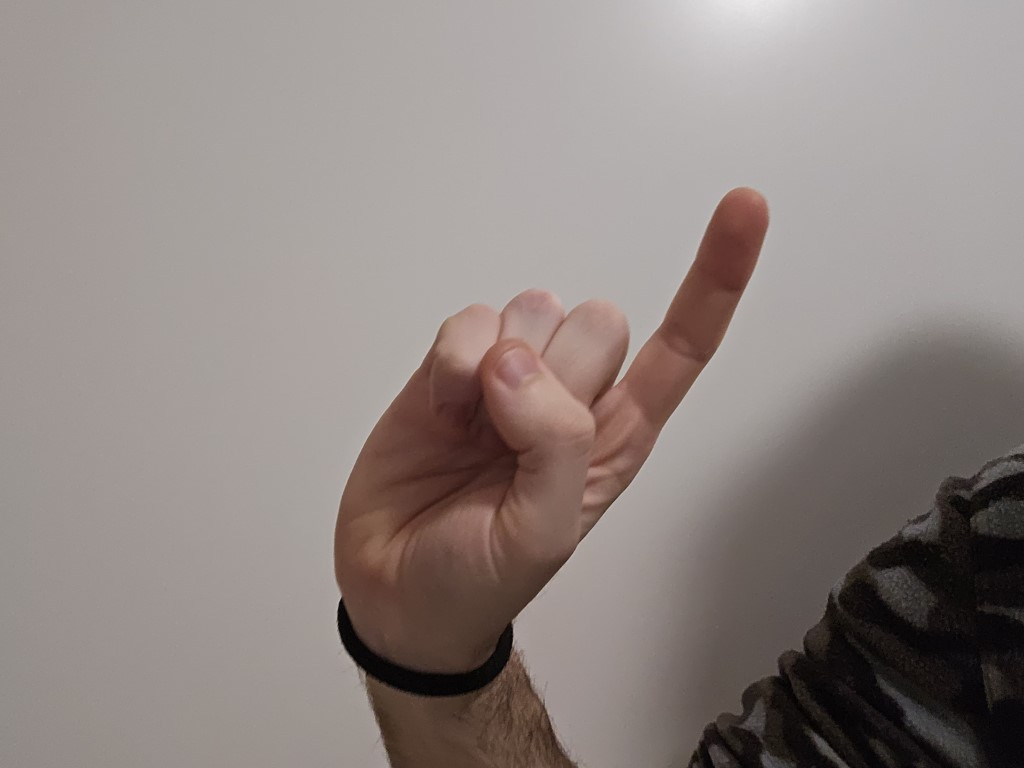z: (309, 155, 783, 631)
